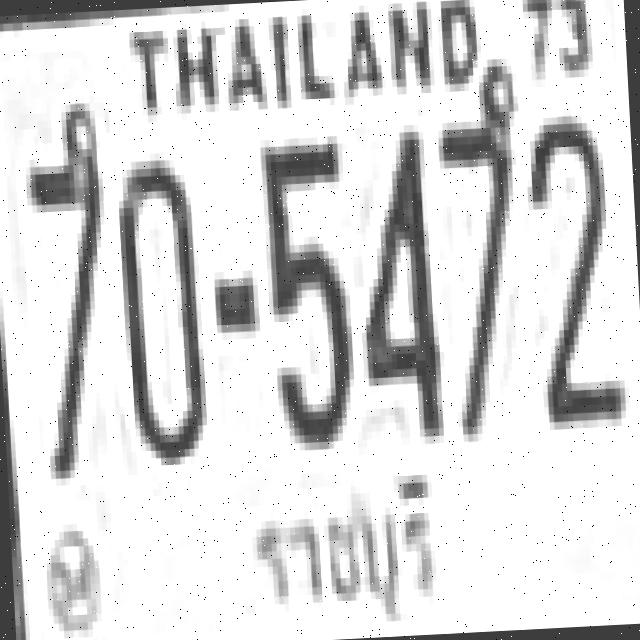0: (112, 151, 205, 460)
2: (524, 111, 616, 412)
4: (351, 127, 439, 436)
5: (260, 136, 353, 444)
7: (23, 118, 114, 472), (436, 89, 526, 435)
Ratchaburi: (243, 452, 457, 640)
